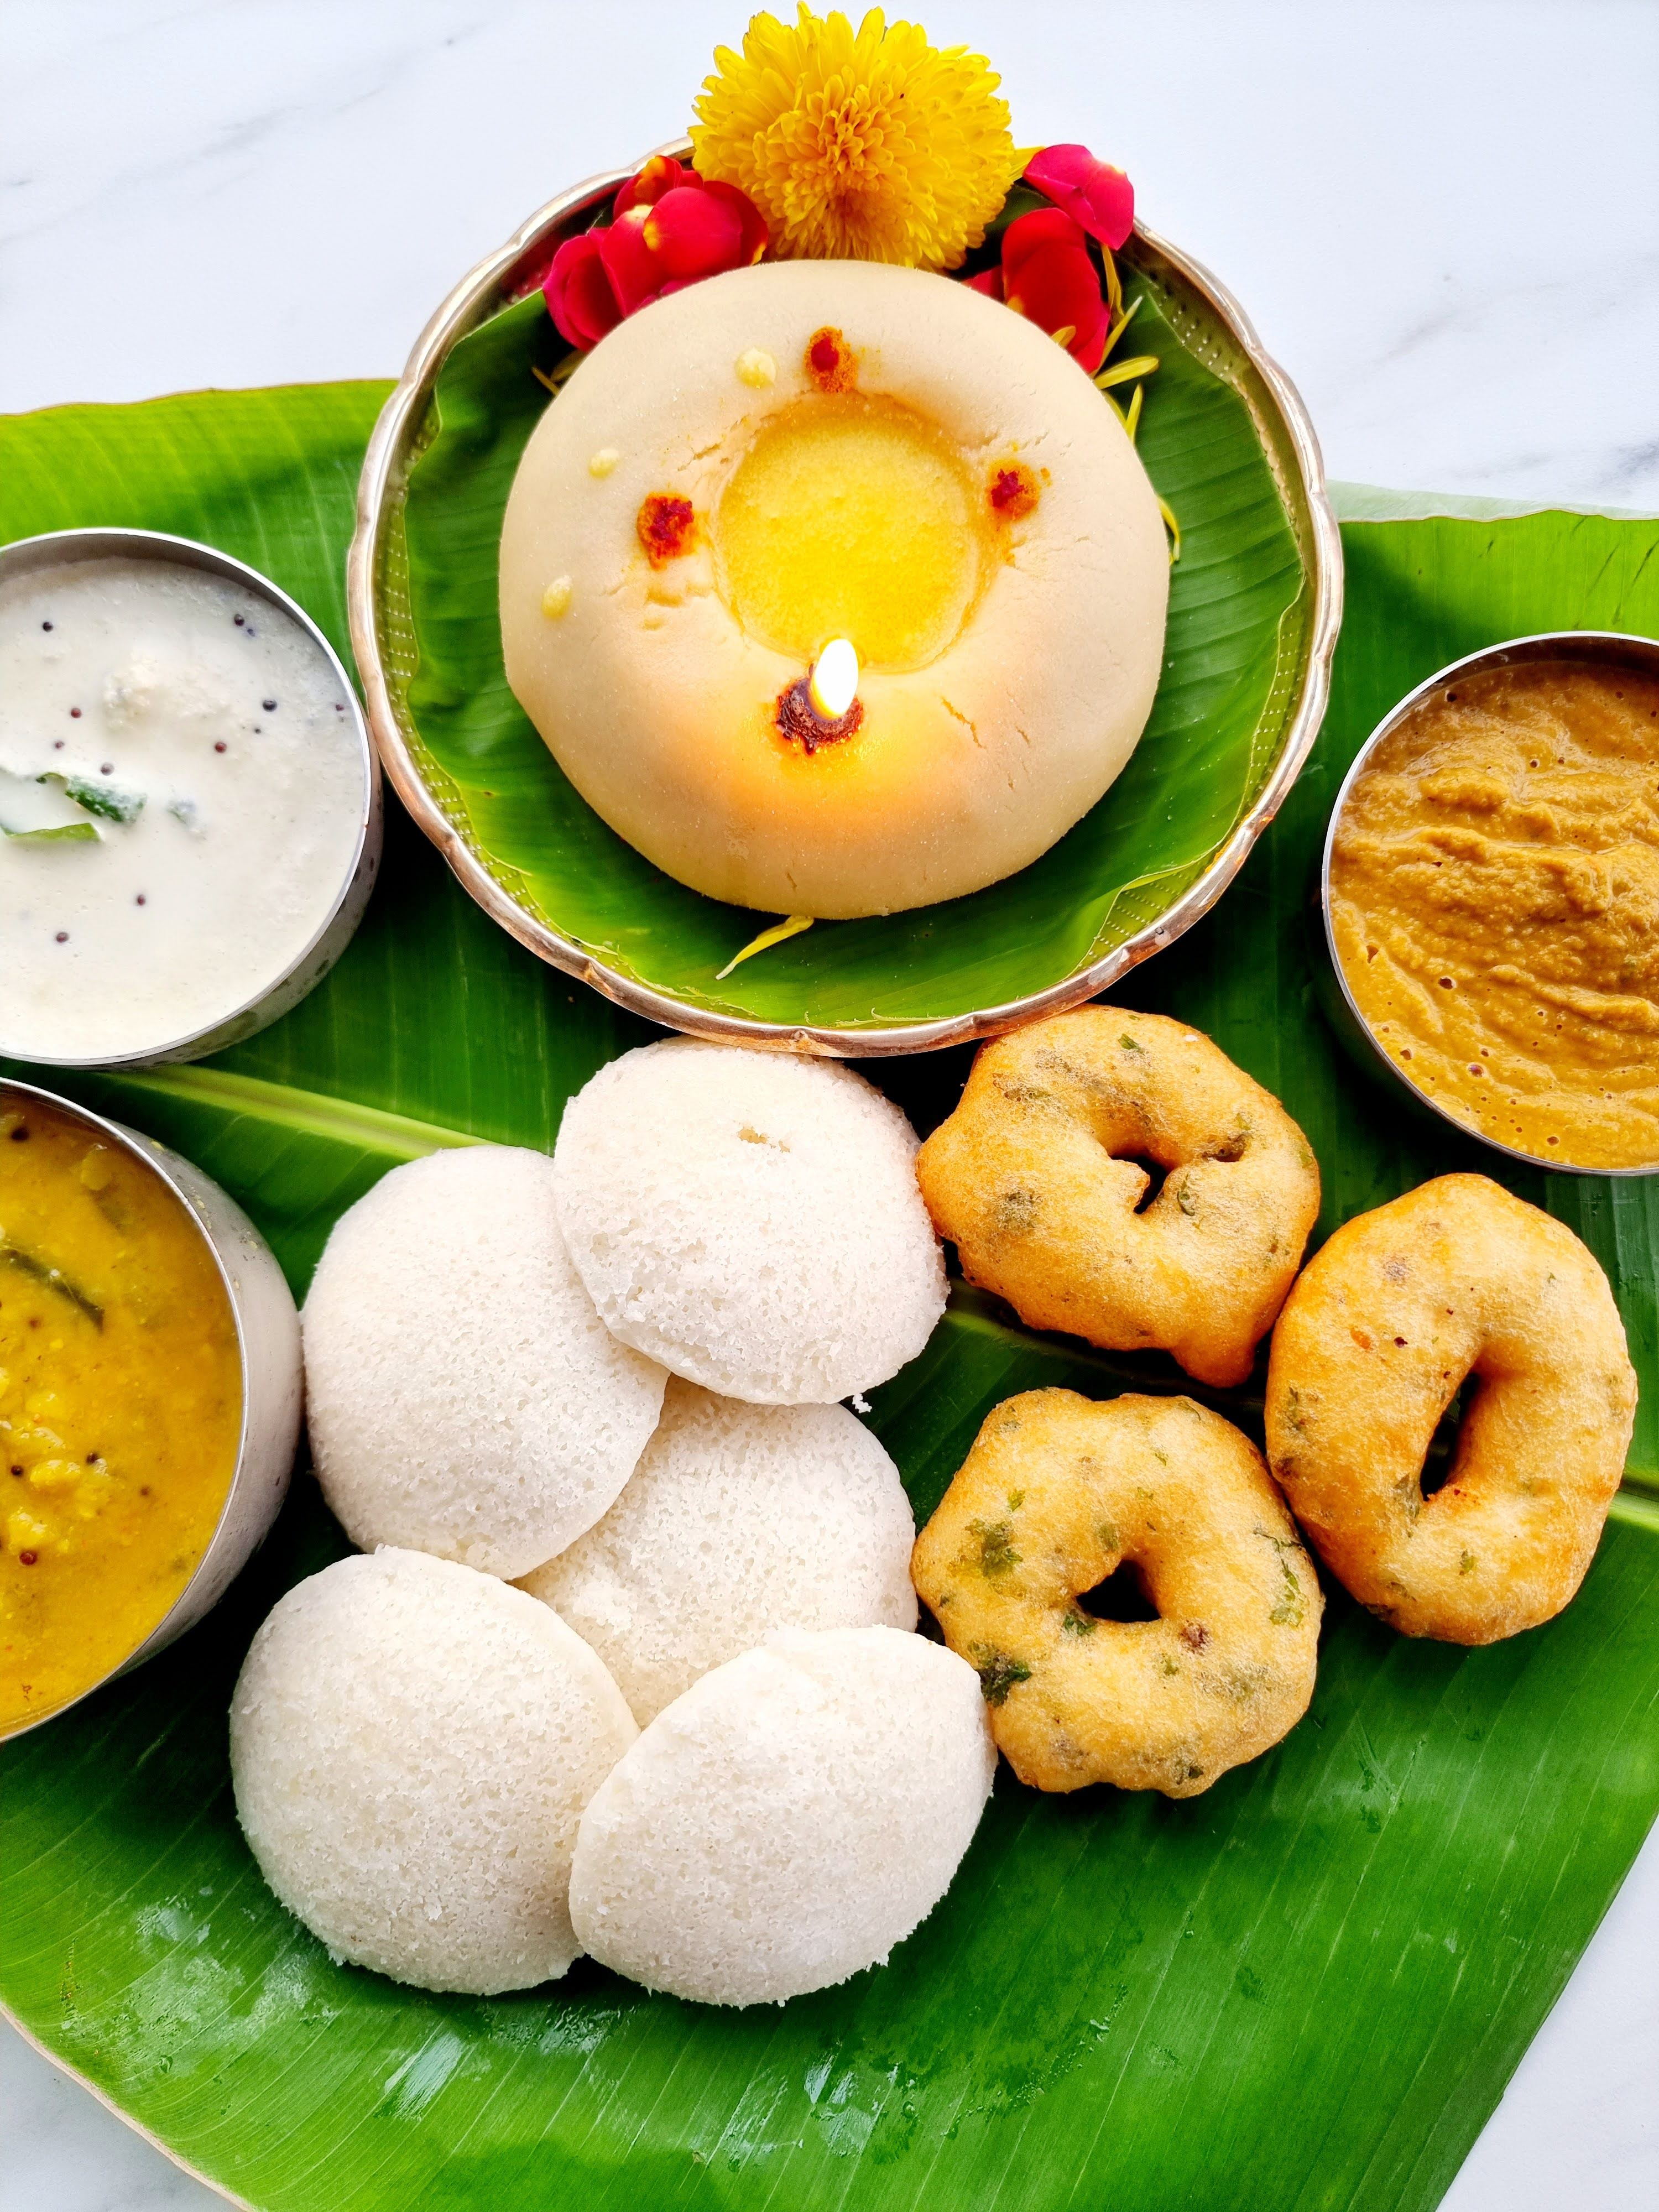chutney: (0, 624, 312, 991)
idli: (230, 1540, 674, 2033), (462, 1355, 936, 1731), (554, 1625, 1012, 2013), (303, 1141, 659, 1583), (558, 1062, 927, 1413)
